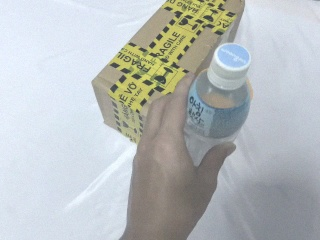bottle: (183, 43, 253, 168)
box: (91, 1, 245, 162)
